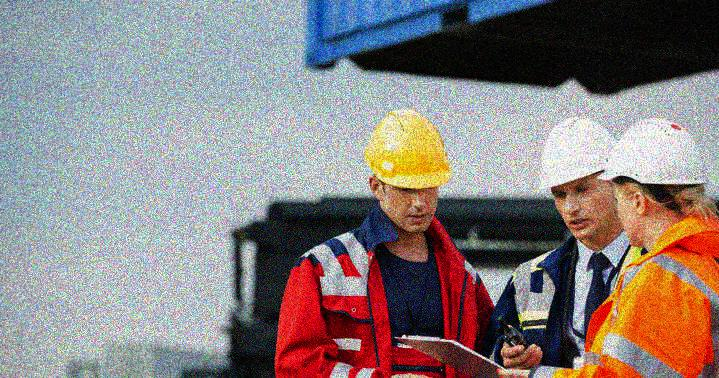helmet: (596, 117, 708, 248), (362, 107, 452, 232), (536, 114, 623, 241)
